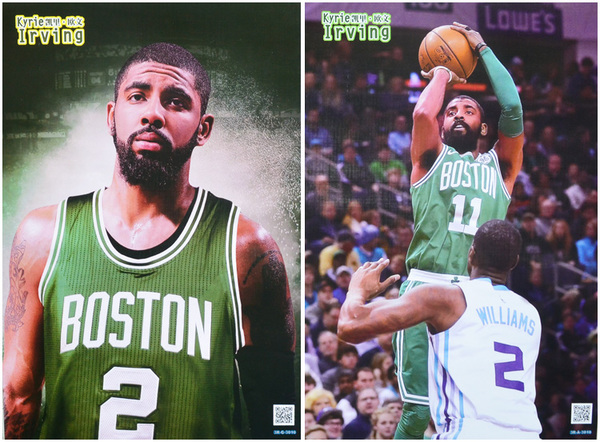ball: (419, 25, 479, 81)
